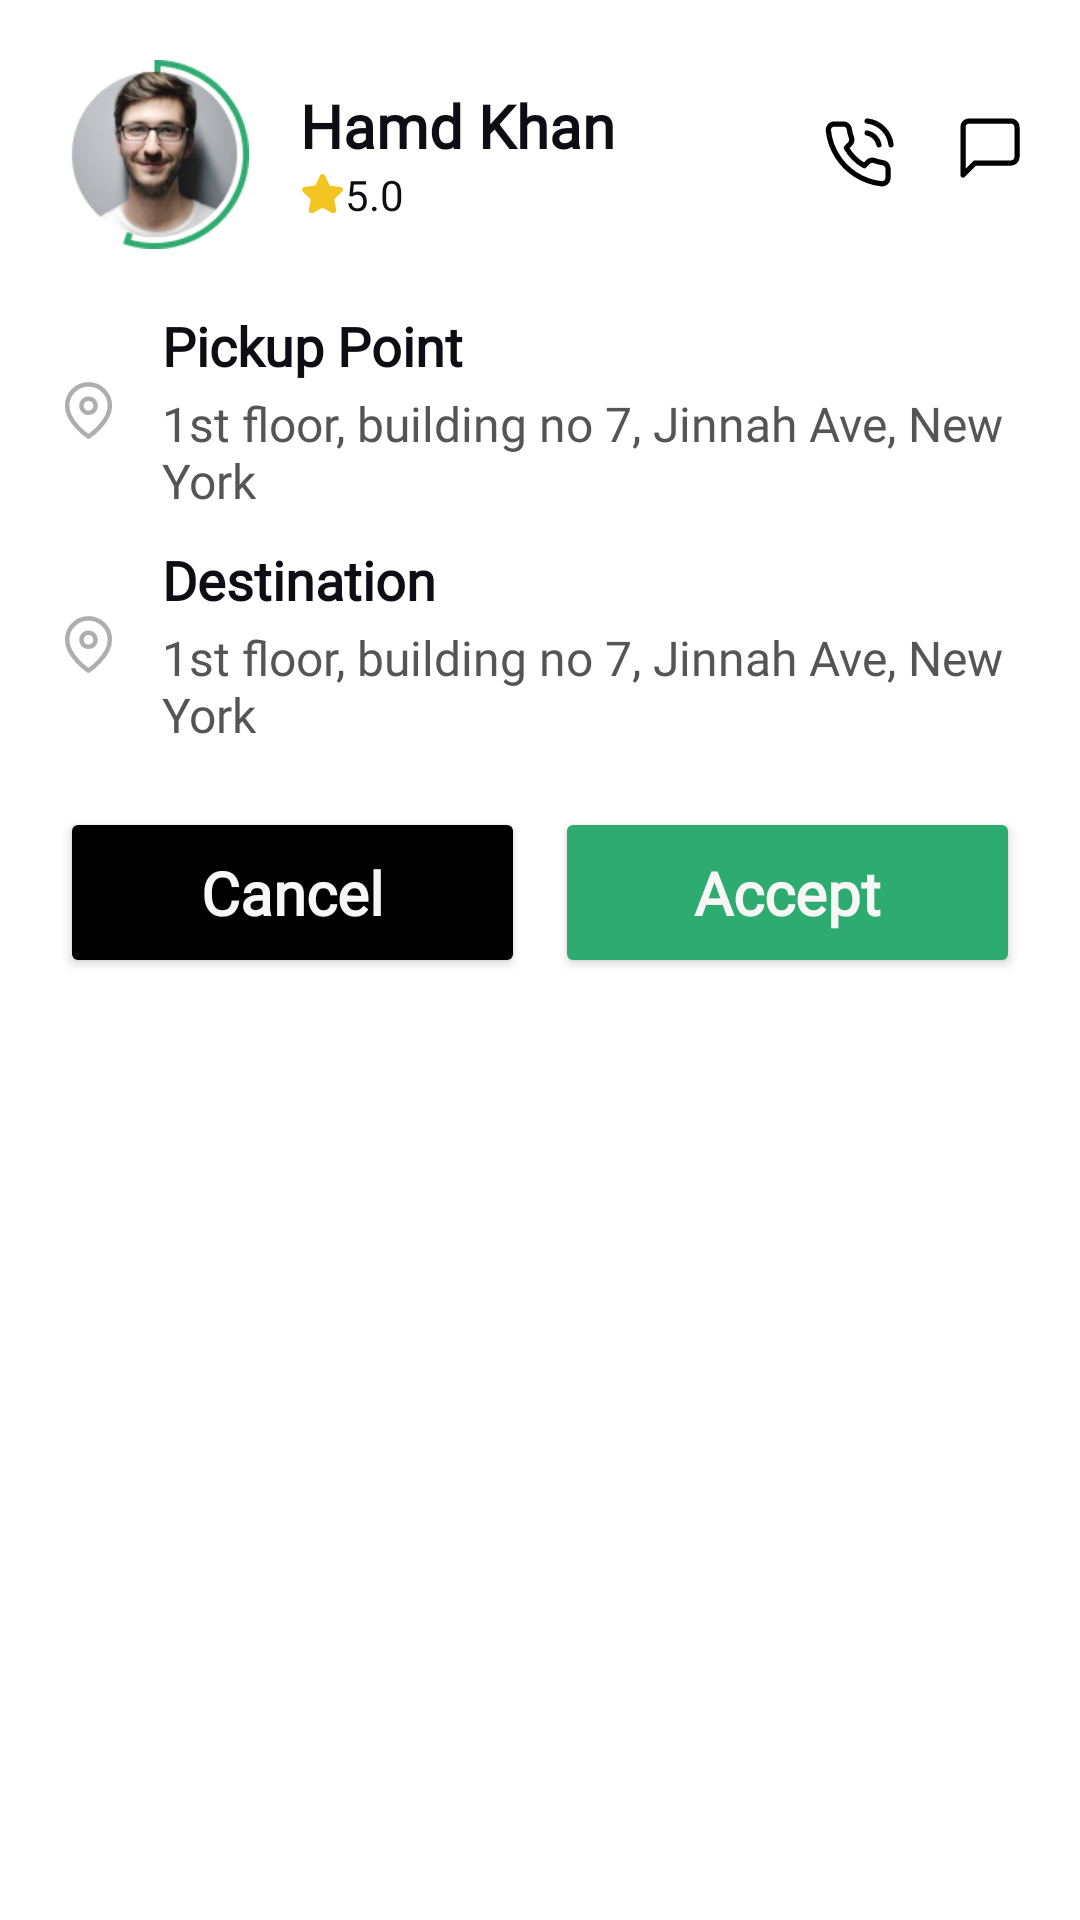

Screen size 1080*1920. Icon name, then its center in pixels as [x,y]:
chat: [990,148]
demo user: [160,154]
map pin: [88,410], [88,644]
phone call: [859,152]
star: [322,194]
